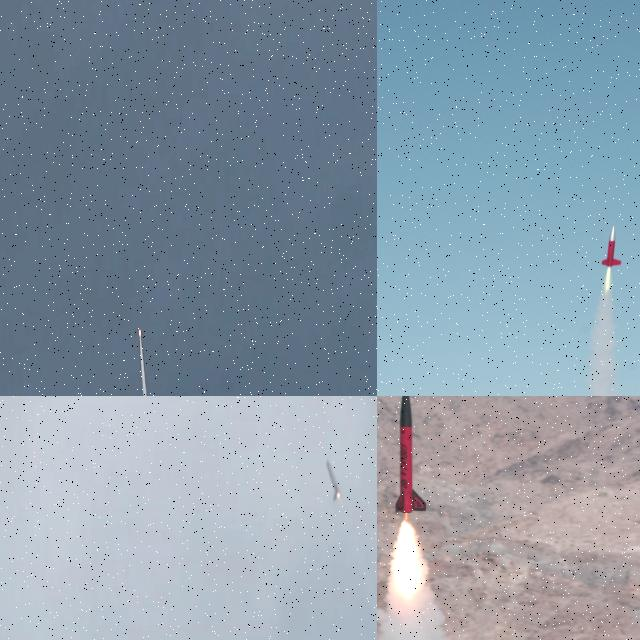Rocket: (393, 396, 428, 514), (602, 225, 622, 268), (326, 459, 341, 501), (137, 324, 142, 334)
